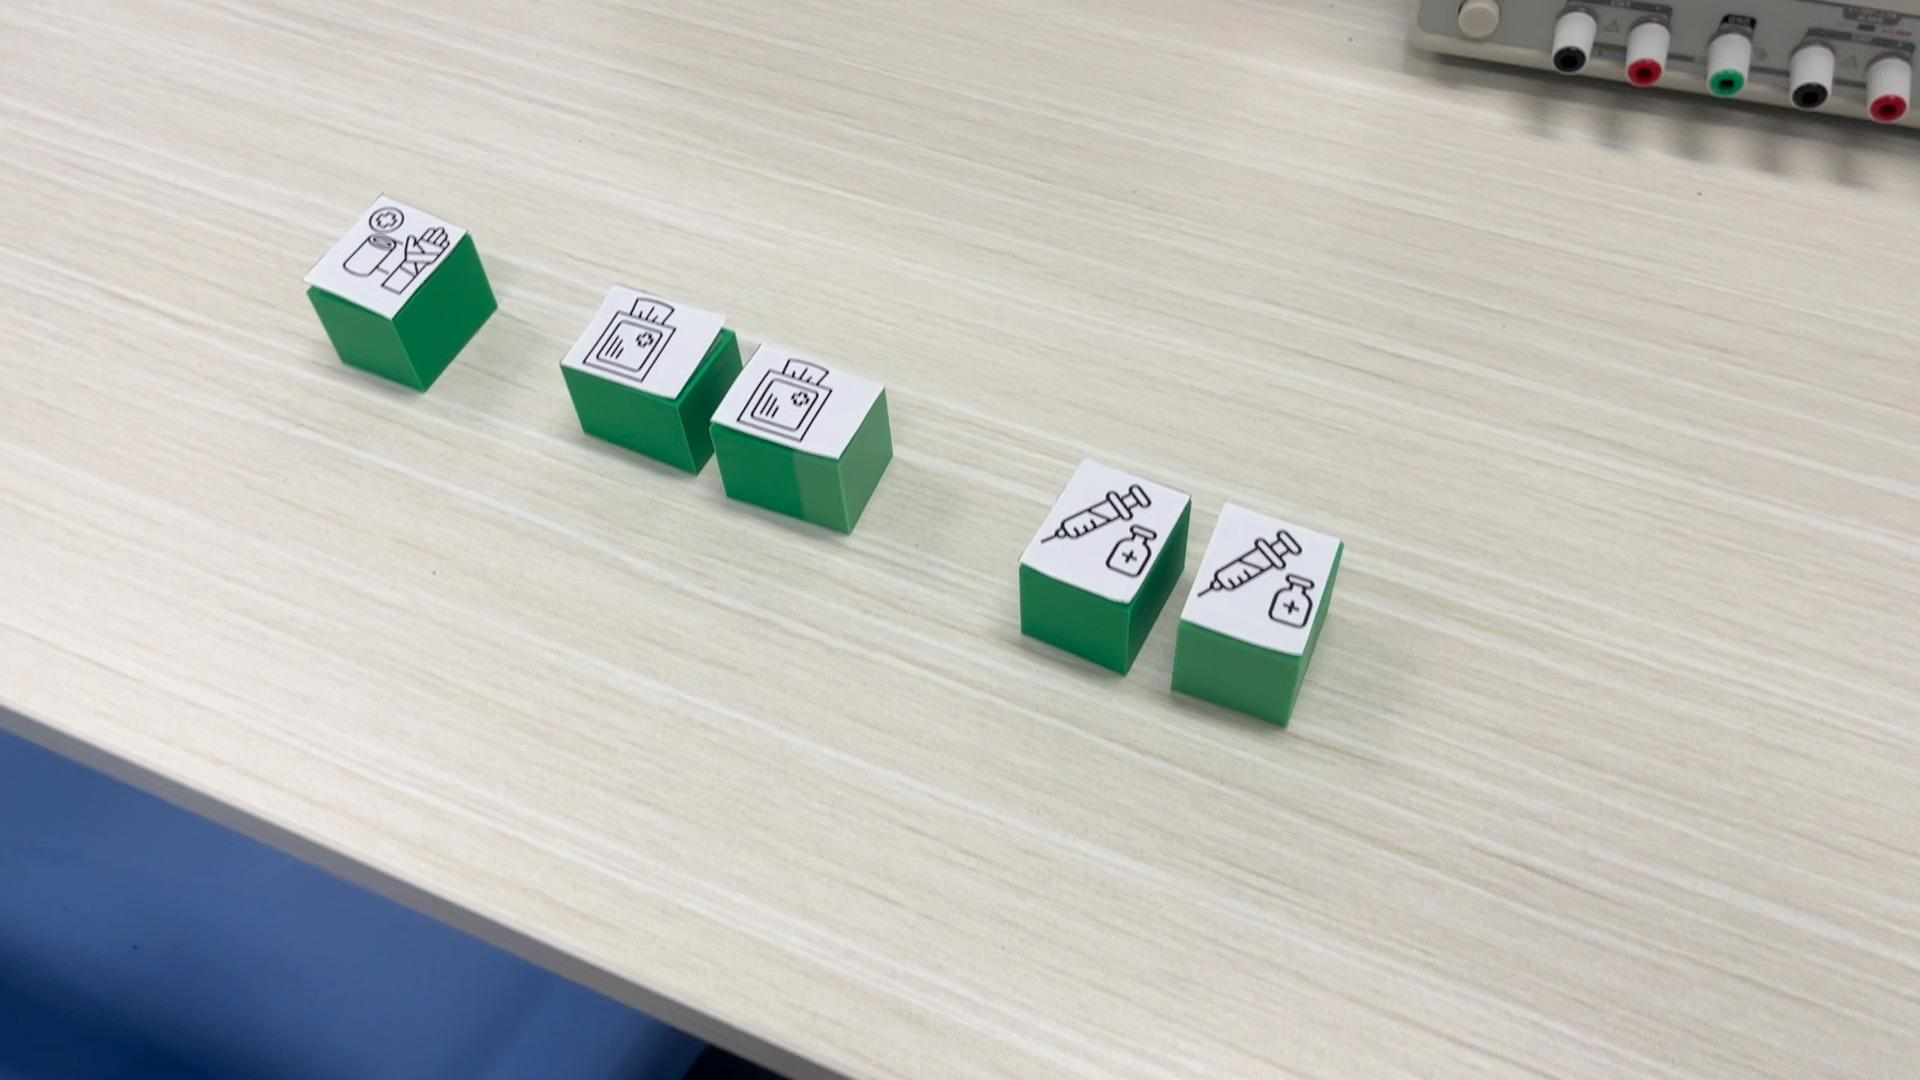Bandages: (301, 194, 497, 392)
Gauze: (709, 339, 897, 537), (560, 282, 733, 476)
antiseptic cream: (1168, 500, 1346, 728), (1018, 455, 1193, 680)
